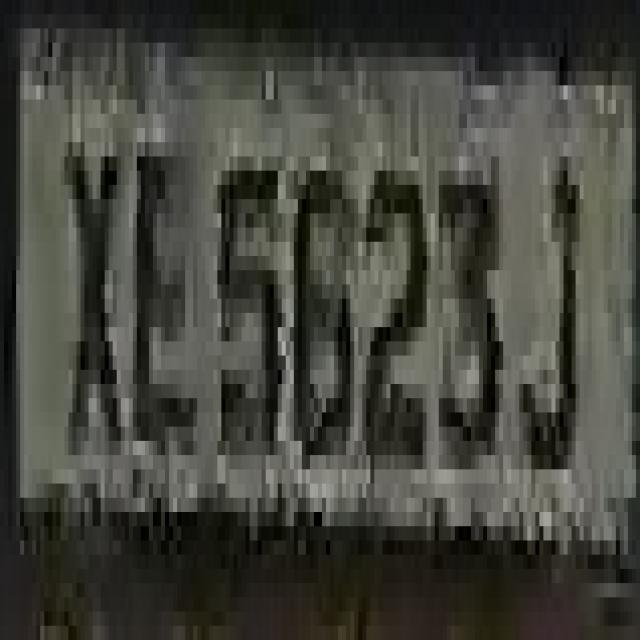2: (342, 114, 423, 469)
3: (435, 85, 511, 512)
5: (213, 100, 286, 483)
6: (282, 100, 358, 483)
E: (129, 128, 201, 455)
J: (511, 100, 580, 498)
X: (56, 100, 121, 483)
